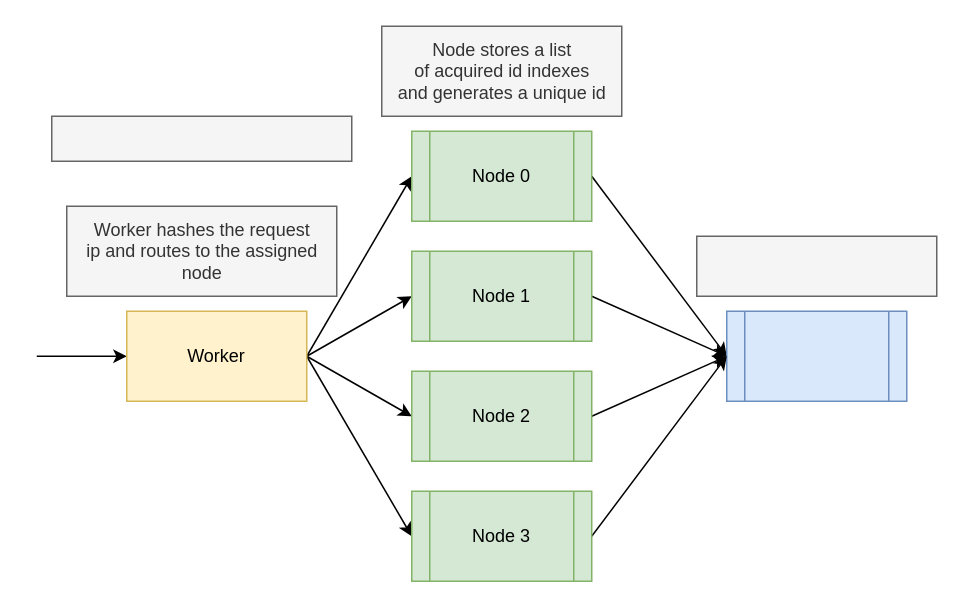
Some shapes in this 963 by 608 pixel diagram are drawn without their labels. Each missing label, with the box of its shape:
Counter: (725, 310, 907, 401)
Counter stores the global index for all id ranges: (695, 235, 937, 296)
ID = timestamp + node id + index: (50, 115, 352, 161)
